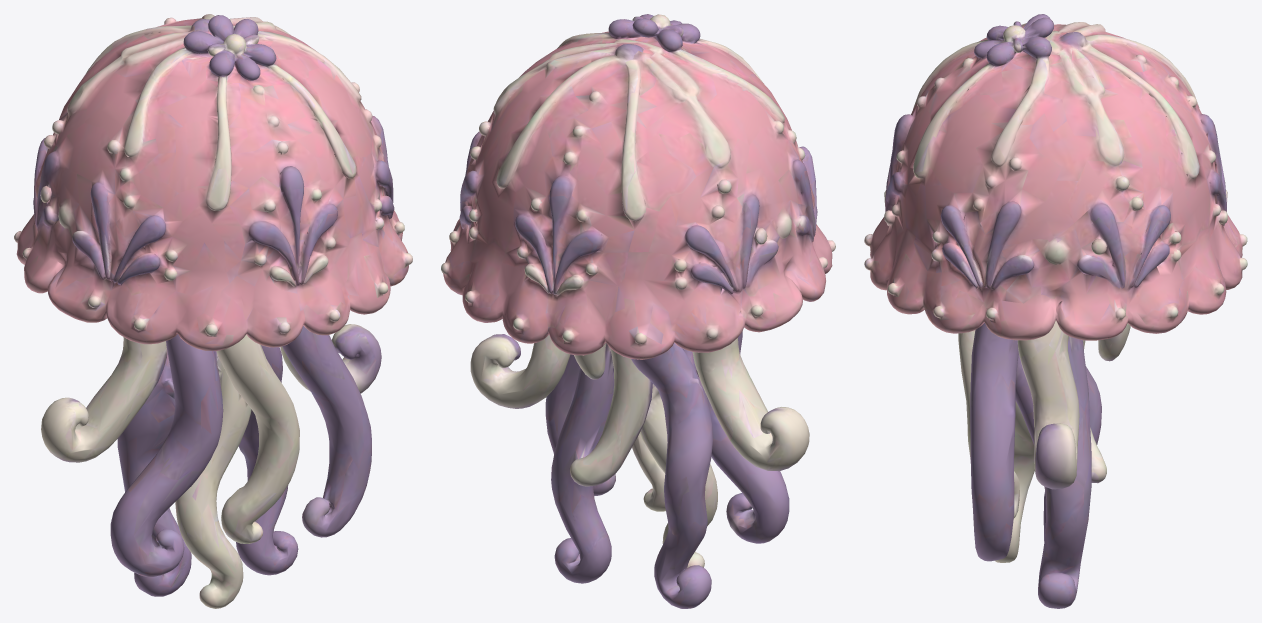
The picture shows the model from 3 angles, left to right: view 1: azimuth 30°, elevation 25°; view 2: azimuth 150°, elevation 25°; view 3: azimuth 270°, elevation 25°; orthographic projection. The views are drawn at different scales.
Size of the model in its own units: 1.2 by 1.9 by 1.18.
Materials: 1 (1 with a texture image).
